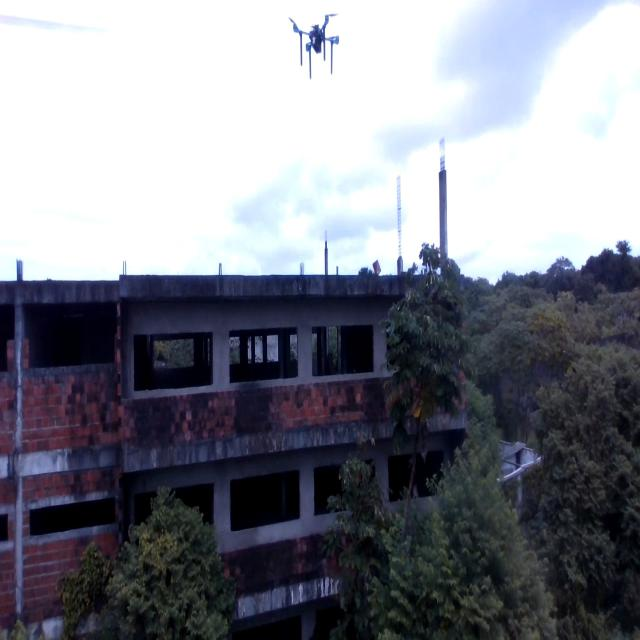-uav-: (282, 0, 348, 89)
